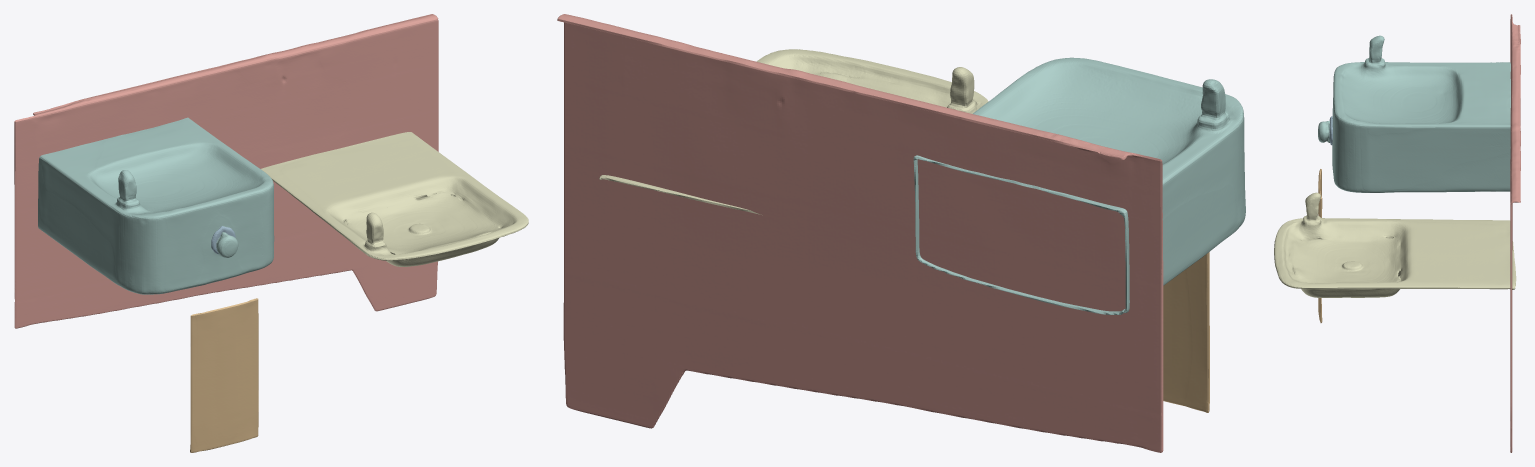
The model's file is image5_1.glb.
3 views of the same model, side by side, from view 1: azimuth 30°, elevation 25°; view 2: azimuth 150°, elevation 25°; view 3: azimuth 270°, elevation 25° (orthographic). The views are drawn at different scales.
Visible parts, largest first — view 1: world; view 2: world; view 3: world.
Part boxes in pixels (x1,y1,x2,y2): world: (14,14,528,452); world: (557,14,1245,452); world: (1274,14,1520,452).
Size of the model in its own units: 1.91 by 1.2 by 1.06.
